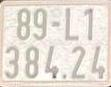-: (52, 21, 61, 27)
.: (61, 73, 68, 80)
1: (83, 7, 93, 42)
2: (70, 45, 86, 80)
3: (3, 46, 20, 79)
4: (91, 45, 106, 80), (44, 46, 59, 79)
8: (17, 8, 31, 40), (26, 45, 39, 79)
9: (33, 8, 48, 41)
L: (64, 7, 79, 42)
